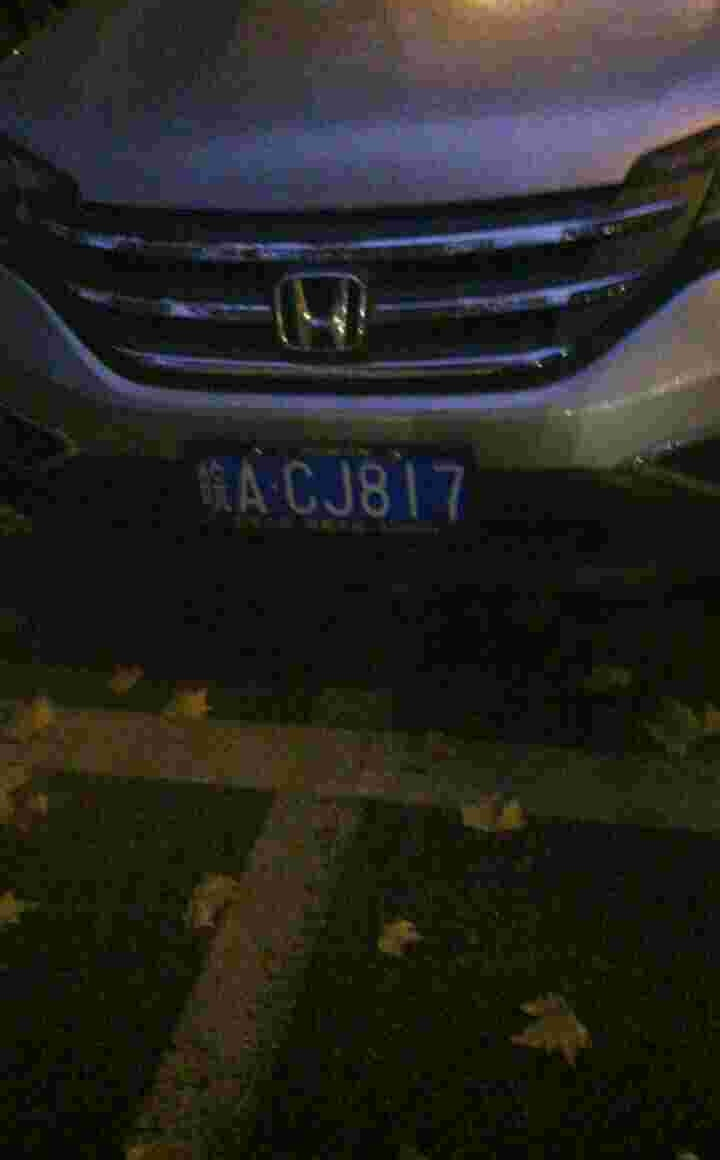plate: (186, 439, 485, 538)
